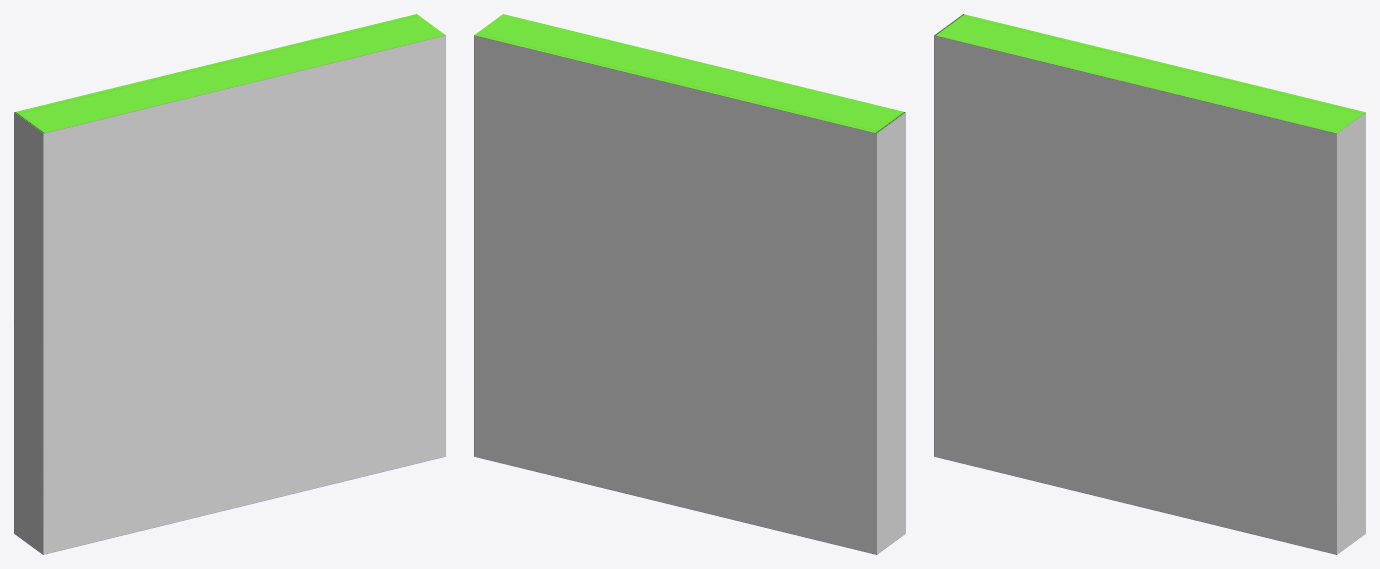
The model's file is MK_MK_Wall_A.fbx.
3 renders of one model, left to right at view 1: azimuth 30°, elevation 25°; view 2: azimuth 150°, elevation 25°; view 3: azimuth 330°, elevation 25°, orthographic.
Visible parts, largest first — view 1: MK_Wall_A; view 2: MK_Wall_A; view 3: MK_Wall_A.
Part boxes in pixels (bbox=[...]): MK_Wall_A: bbox=[14, 14, 445, 554]; MK_Wall_A: bbox=[474, 14, 905, 554]; MK_Wall_A: bbox=[934, 14, 1365, 554].
Size of the model in its own units: 180 by 180 by 22.5.
Materials: 1 (1 with a texture image).
